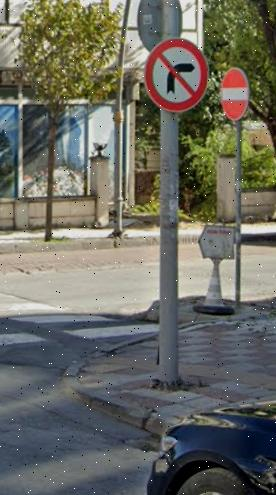rightturnsareforbidden: (151, 35, 207, 107)
